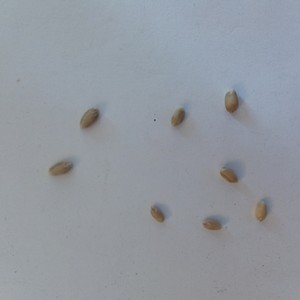trigo: (79, 106, 104, 135), (44, 158, 74, 179), (216, 164, 242, 188), (200, 213, 225, 237), (220, 87, 241, 115), (253, 194, 271, 225), (147, 200, 167, 225), (168, 106, 188, 129)
